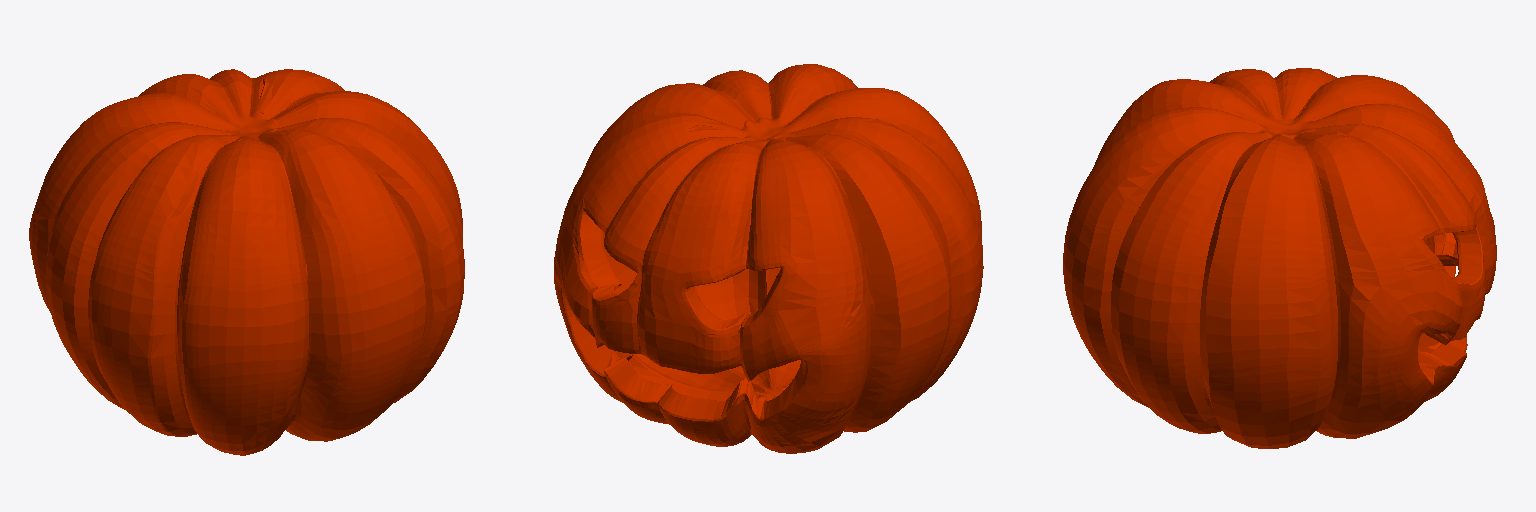
Rendered from citrouille.obj.
The picture shows the model from 3 angles: view 1: azimuth 30°, elevation 25°; view 2: azimuth 150°, elevation 25°; view 3: azimuth 270°, elevation 25°; orthographic projection.
Visible parts, largest first — view 1: Plane.002; view 2: Plane.002; view 3: Plane.002.
Boxes of the visible parts, box(x1,y1,x2,y2) form: Plane.002: box(29, 69, 464, 455); Plane.002: box(554, 64, 983, 453); Plane.002: box(1063, 68, 1496, 448).
Size of the model in its own units: 3.06 by 2.35 by 3.07.